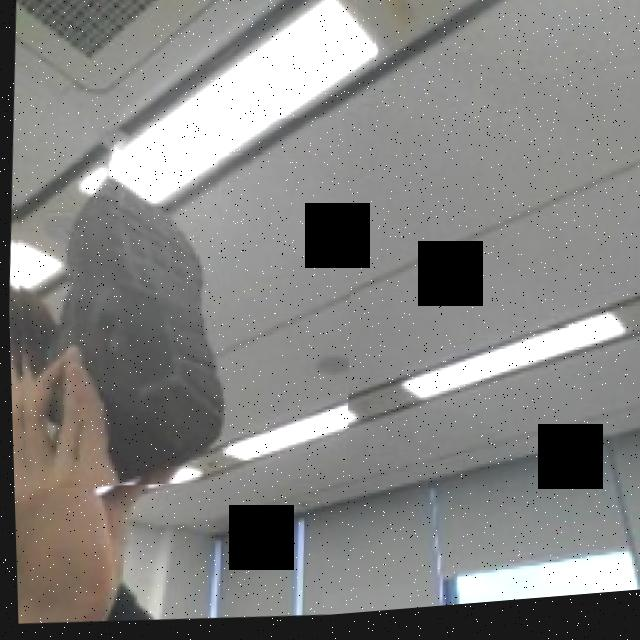shoe: (3, 105, 362, 507)
